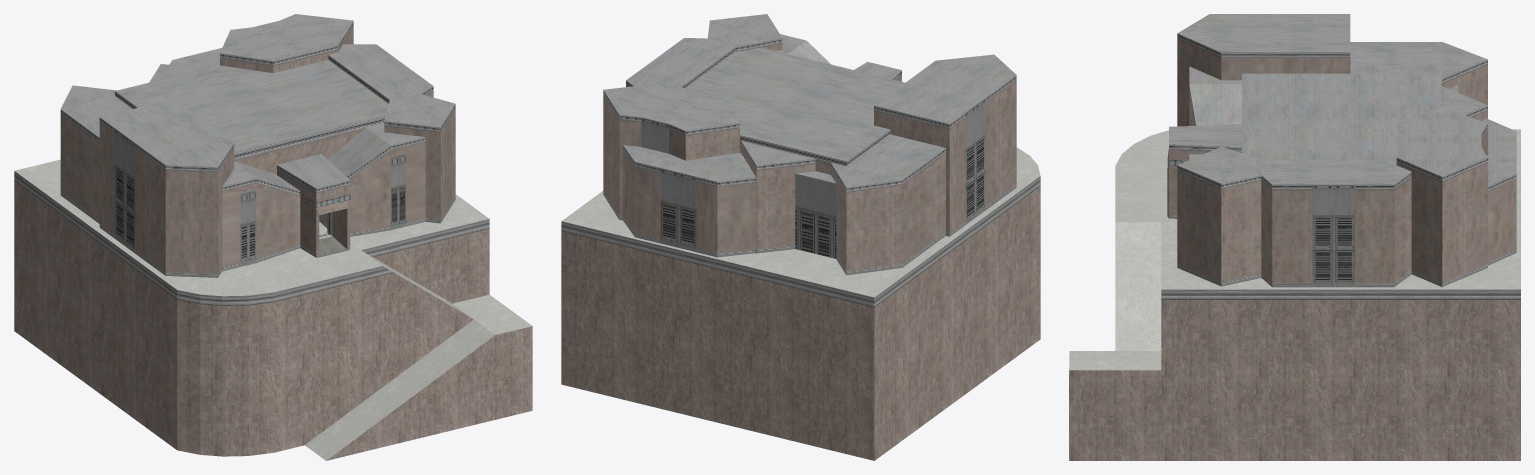
File: ply_corl_house_lg_s01_fp1_r0_mesh_l3.fbx
The picture shows the model from 3 angles, left to right: view 1: azimuth 30°, elevation 25°; view 2: azimuth 150°, elevation 25°; view 3: azimuth 270°, elevation 25°; orthographic projection. The views are drawn at different scales.
Visible parts, largest first — view 1: mesh_node; view 2: mesh_node; view 3: mesh_node.
Boxes of the visible parts, x1=… form: mesh_node: x1=14, y1=14, x2=532, y2=460; mesh_node: x1=561, y1=14, x2=1040, y2=460; mesh_node: x1=1069, y1=14, x2=1520, y2=460.
Size of the model in its own units: 33.08 by 27.88 by 39.4.
